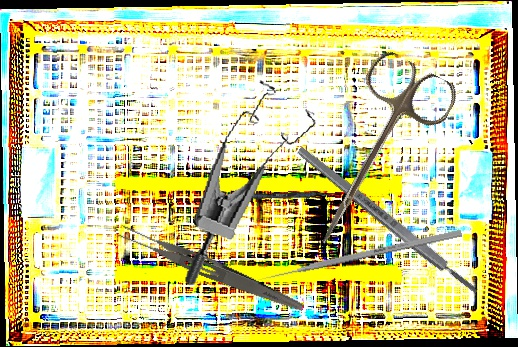Dressing Forceps: (116, 220, 308, 316)
Iris Scissors: (287, 46, 462, 267)
Pusher: (256, 228, 463, 284)
Scalpel Handle: (295, 143, 481, 298)
Spatula Surgical: (223, 188, 340, 203)
Speculum: (181, 72, 322, 303)
